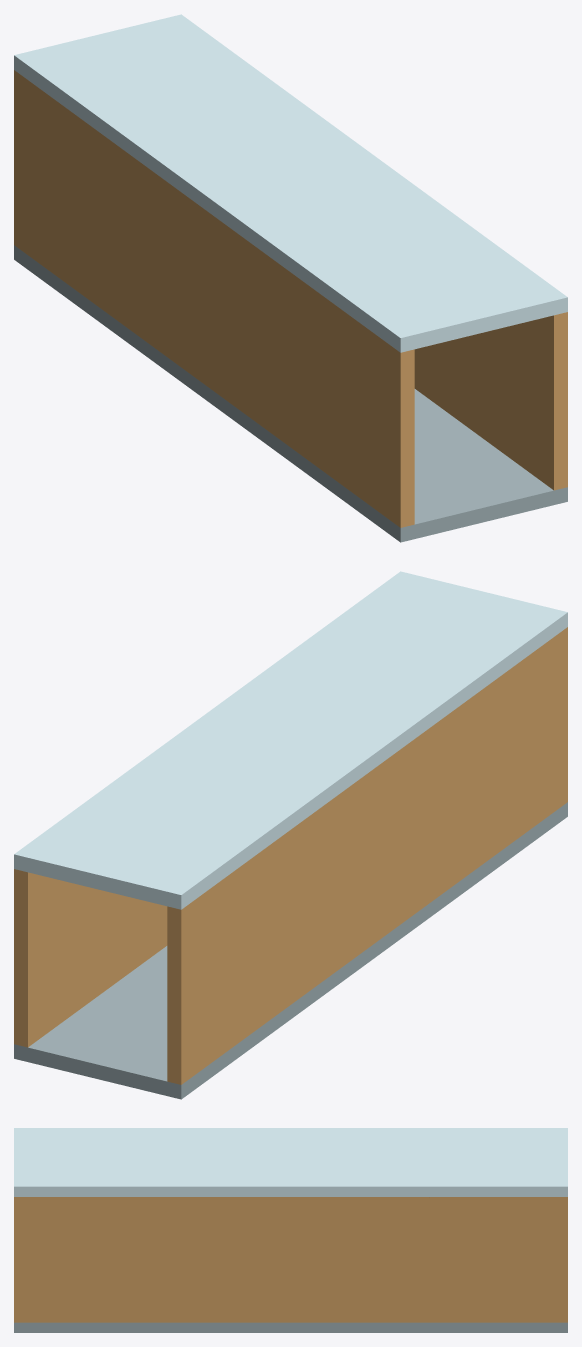
The model's file is Test1x4Corridor.fbx.
3 views of the same model, one above another, from view 1: azimuth 30°, elevation 25°; view 2: azimuth 150°, elevation 25°; view 3: azimuth 270°, elevation 25° (orthographic). The views are drawn at different scales.
Visible parts, largest first — view 1: roof.002, wall.007, roof.003, roof.001, roof.004, wall.005, wall.004, wall.006, wall, floor.002, wall.001, floor.001 (+2 smaller); view 2: roof.004, wall.004, roof.001, roof.002, roof.003, wall.006, wall.005, wall.007, wall.003, floor.004, wall.002, floor.003 (+2 smaller); view 3: wall, wall.001, wall.002, wall.003, roof.001, roof.002, roof.003, roof.004, floor.001, floor.004, floor.002, floor.003.
Boxes of the visible parts, left/top/right/bottom form: roof.002: left=304, top=226, right=567, bottom=352; wall.007: left=304, top=282, right=414, bottom=527; roof.003: left=110, top=85, right=374, bottom=210; roof.001: left=207, top=156, right=470, bottom=281; roof.004: left=14, top=14, right=277, bottom=140; wall.005: left=110, top=141, right=207, bottom=385; wall.004: left=14, top=70, right=110, bottom=315; wall.006: left=207, top=211, right=303, bottom=456; wall: left=457, top=312, right=567, bottom=490; floor.002: left=304, top=420, right=567, bottom=542; wall.001: left=414, top=339, right=457, bottom=419; floor.001: left=207, top=387, right=456, bottom=471; roof.004: left=14, top=783, right=277, bottom=909; wall.004: left=167, top=839, right=277, bottom=1084; roof.001: left=207, top=642, right=471, bottom=767; roof.002: left=304, top=571, right=567, bottom=697; roof.003: left=111, top=713, right=374, bottom=838; wall.006: left=374, top=698, right=471, bottom=942; wall.005: left=278, top=768, right=374, bottom=1013; wall.007: left=471, top=627, right=567, bottom=872; wall.003: left=14, top=869, right=124, bottom=1047; floor.004: left=14, top=977, right=277, bottom=1099; wall.002: left=124, top=896, right=167, bottom=976; floor.003: left=125, top=944, right=374, bottom=1028; wall: left=14, top=1197, right=152, bottom=1322; wall.001: left=152, top=1197, right=290, bottom=1322; wall.002: left=291, top=1197, right=429, bottom=1322; wall.003: left=429, top=1197, right=567, bottom=1322; roof.001: left=152, top=1128, right=290, bottom=1196; roof.002: left=14, top=1128, right=152, bottom=1196; roof.003: left=291, top=1128, right=429, bottom=1196; roof.004: left=429, top=1128, right=567, bottom=1196; floor.001: left=152, top=1322, right=290, bottom=1332; floor.004: left=429, top=1322, right=567, bottom=1332; floor.002: left=14, top=1322, right=152, bottom=1332; floor.003: left=291, top=1322, right=429, bottom=1332.
Size of the model in its own units: 300 by 350 by 1200.
